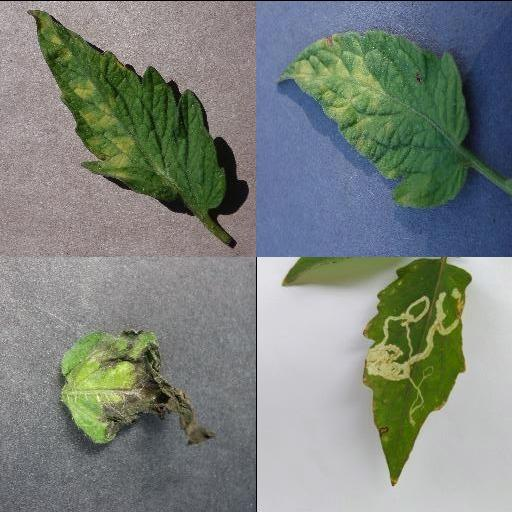Late Blight: (59, 325, 219, 445)
Leaf Miner: (360, 256, 473, 489)
Leaf Mold: (26, 9, 228, 211), (273, 28, 471, 207)
